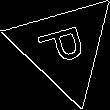P_E: (34, 22, 94, 72)
